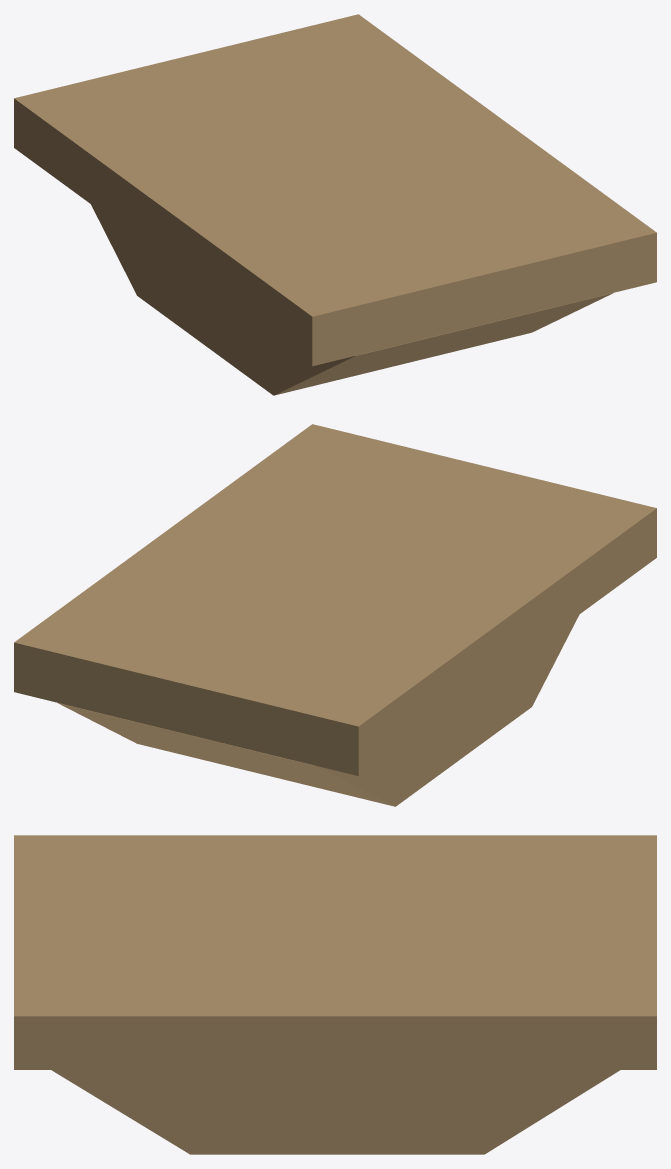
Rendered from tank_body.glb.
The picture shows the model from 3 angles, top to bottom: view 1: azimuth 30°, elevation 25°; view 2: azimuth 150°, elevation 25°; view 3: azimuth 270°, elevation 25°; orthographic projection. The views are drawn at different scales.
Parts seen in each view (by area): view 1: body; view 2: body; view 3: body.
Part boxes in pixels (x1=…): body: x1=14, y1=14, x2=656, y2=395; body: x1=14, y1=424, x2=656, y2=806; body: x1=14, y1=835, x2=656, y2=1154.
Bounding box in the file's own units: 1 × 0.4144 × 1.5.
